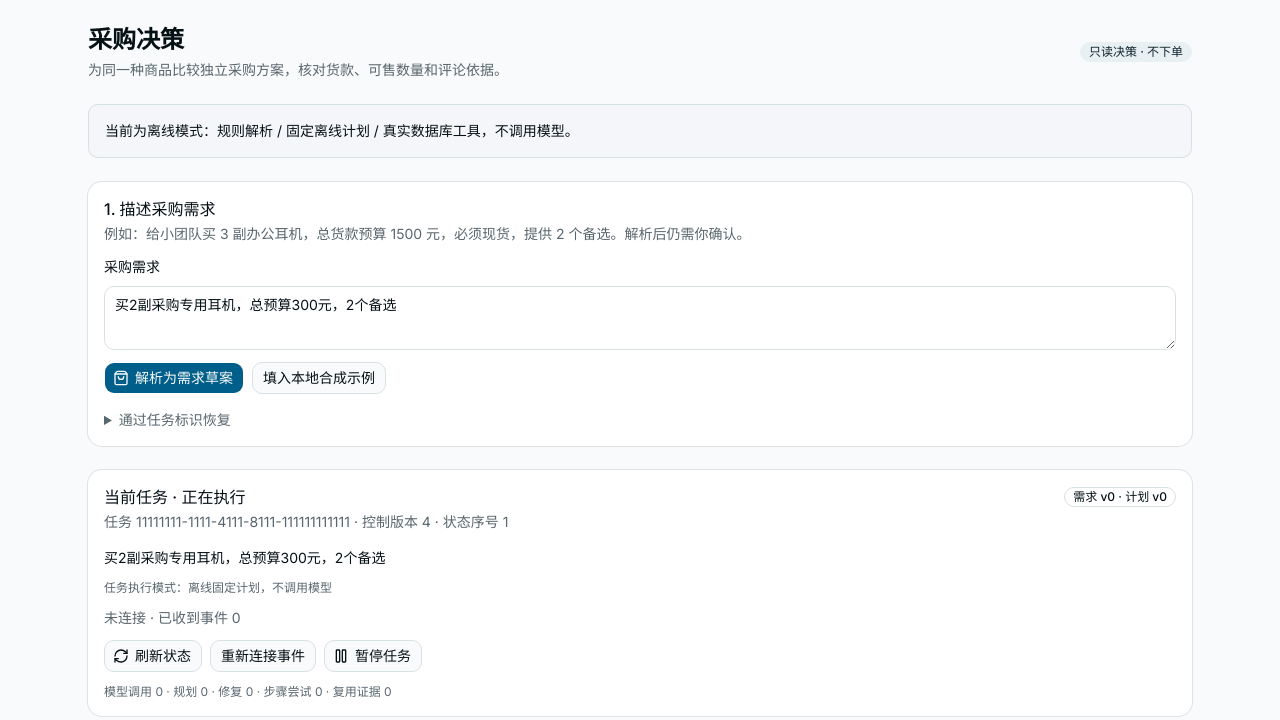
it: 采购工作台合同测试（不替代真实后端验收） › 409读取新版本，不自动重放暂停请求
Click the button "暂停任务". click: [373, 656]
box: x1=324 y1=640 x2=422 y2=672
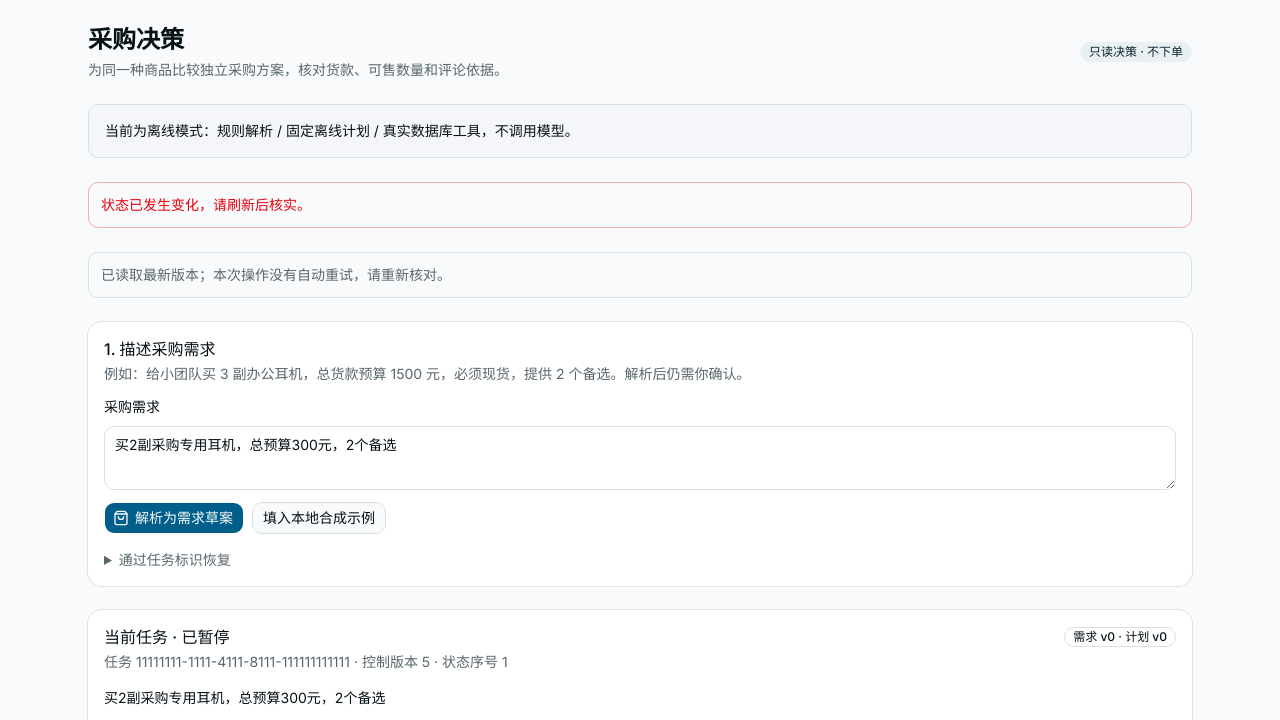
Expected: the text "已读取最新版本；本次操作没有自动重试，请重新核对。" is shown, x1=88 y1=252 x2=1192 y2=298
